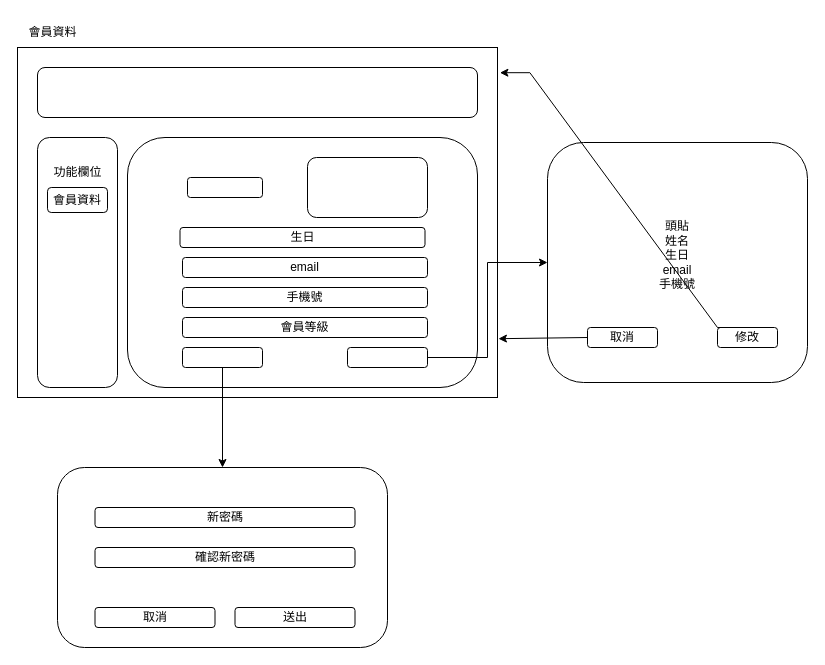
This 825x665 diagram has some shape labels left out. Each missing label, with the centre of its shape:
修改密碼: (x=222, y=357)
列表: (x=257, y=92)
姓名: (x=224, y=187)
編輯基本資料: (x=387, y=357)
頭貼: (x=367, y=187)
